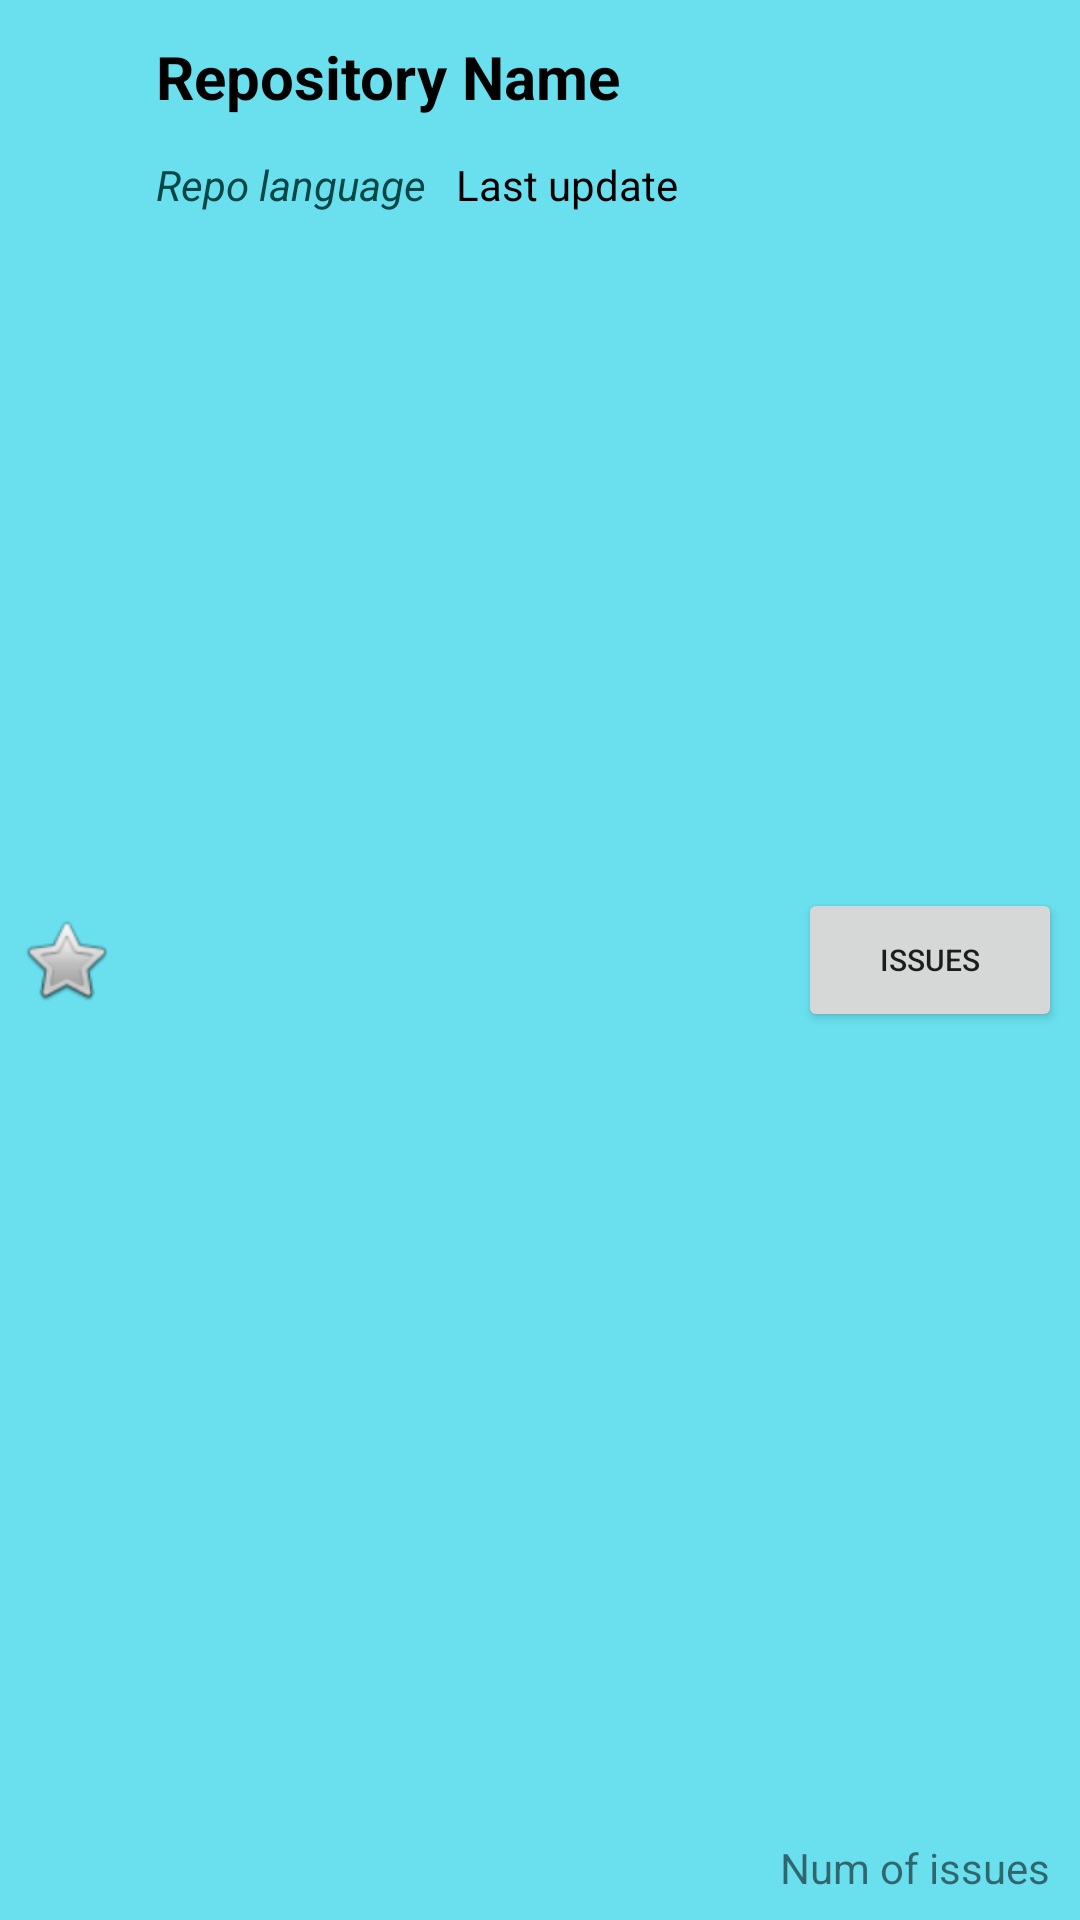

Icons on this 1080px×1920px Android screen, each with the point to tap as [x,y]:
star: [67,961]
